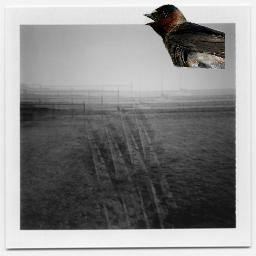Swallow: (142, 4, 225, 69)
